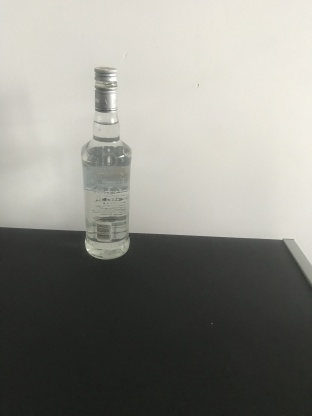nakretka: (93, 65, 118, 113)
